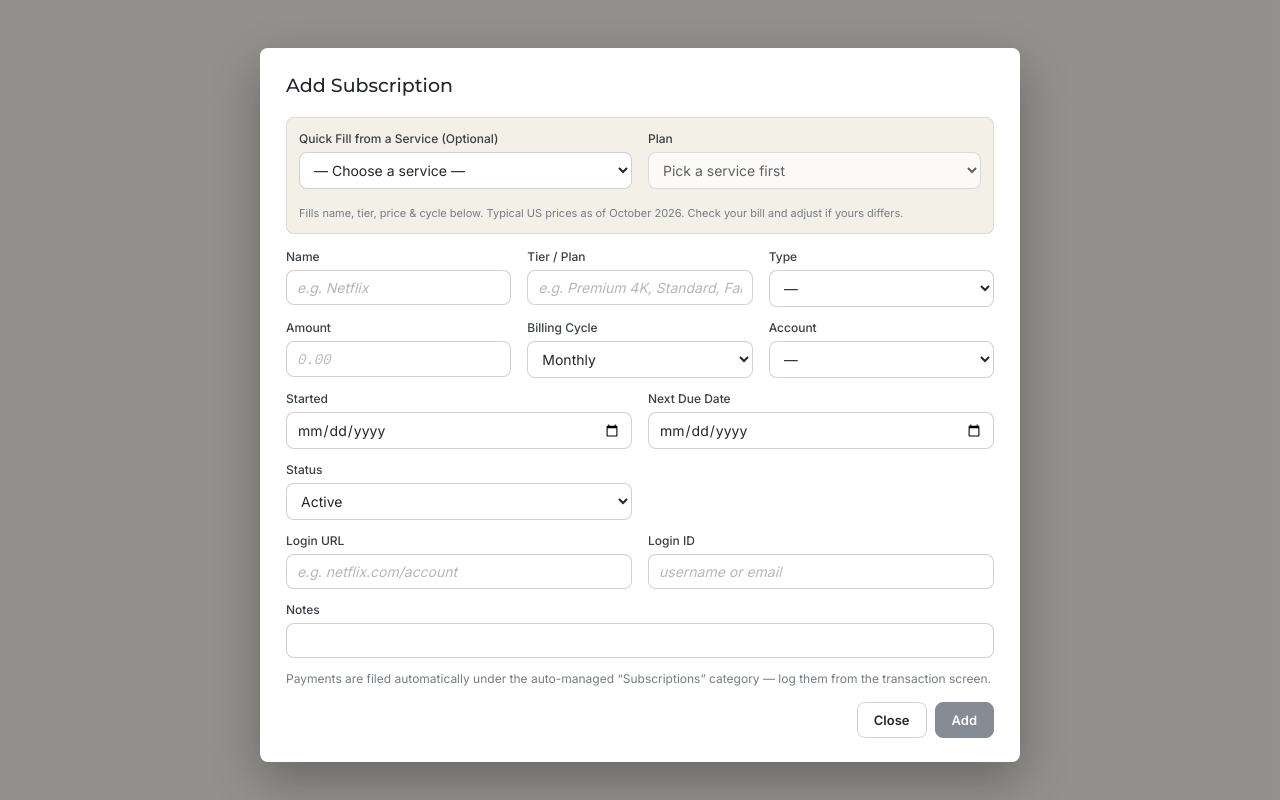
Scenario: SubscriptionEditor › requires a name
Step 1. Type "5" into the field labelled "Amount" → [399, 359], box x1=286 y1=341 x2=511 y2=377
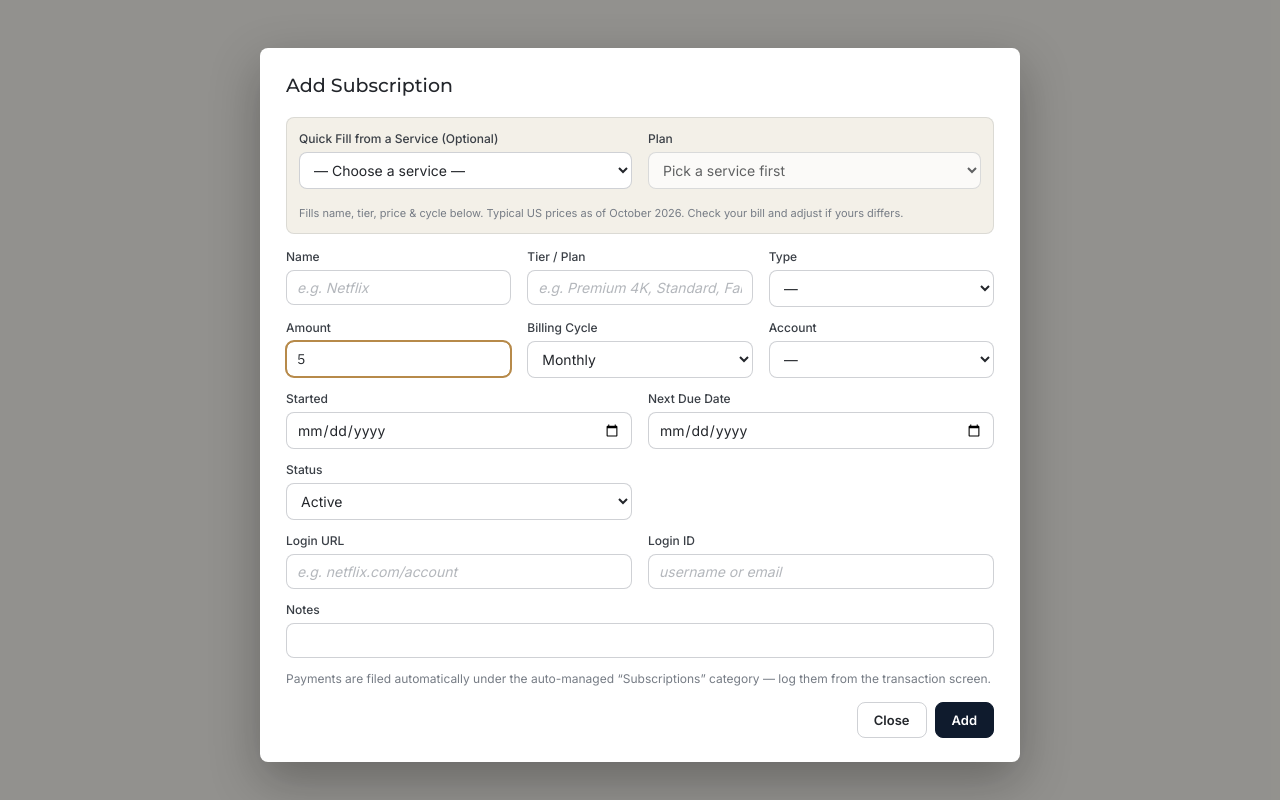
Step 2. Click the button "Add" → [964, 720], box x1=934 y1=702 x2=994 y2=738
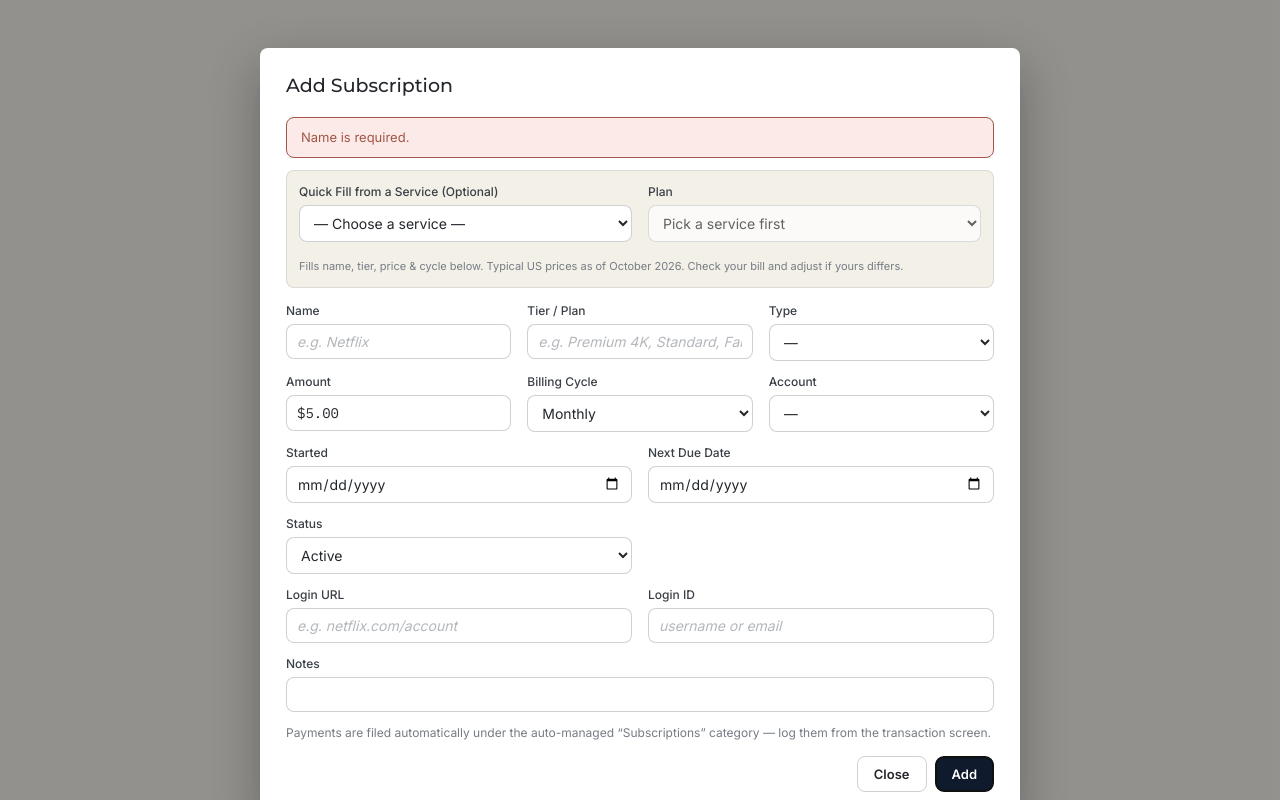
Result: the text "Name is required." is shown at x1=286 y1=116 x2=994 y2=158
